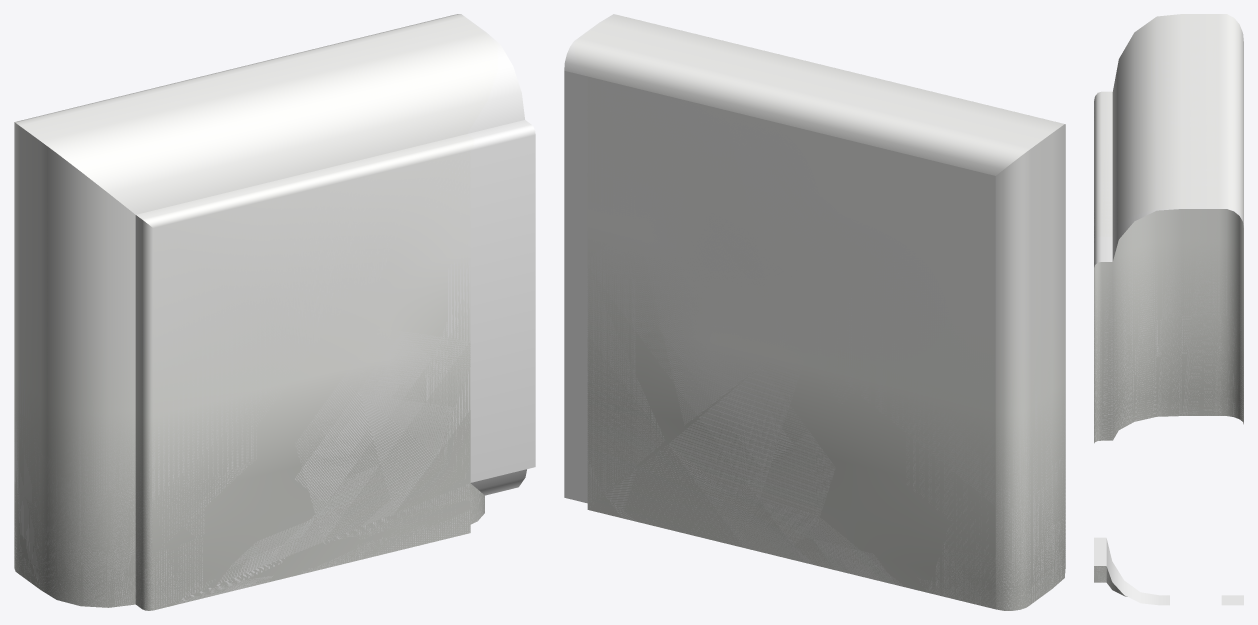
The model's file is original-58.obj.
3 renders of one model, left to right at view 1: azimuth 30°, elevation 25°; view 2: azimuth 150°, elevation 25°; view 3: azimuth 270°, elevation 25°, orthographic. The views are drawn at different scales.
Parts seen in each view (by area): view 1: DF_21_TL2/DF_21_TL/mesh22/mesh22-geometry#mesh22-geometry; view 2: DF_21_TL2/DF_21_TL/mesh22/mesh22-geometry#mesh22-geometry; view 3: DF_21_TL2/DF_21_TL/mesh22/mesh22-geometry#mesh22-geometry.
Boxes of the visible parts, box(x1,y1,x2,y2) form: DF_21_TL2/DF_21_TL/mesh22/mesh22-geometry#mesh22-geometry: box(14, 14, 535, 610); DF_21_TL2/DF_21_TL/mesh22/mesh22-geometry#mesh22-geometry: box(564, 14, 1065, 610); DF_21_TL2/DF_21_TL/mesh22/mesh22-geometry#mesh22-geometry: box(1094, 14, 1243, 605).
Size of the model in its own units: 0.1008 by 0.0969 by 0.0328.
